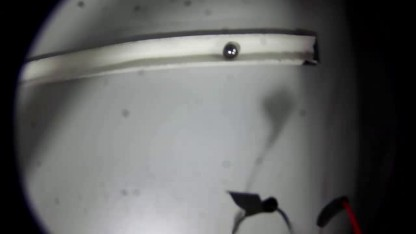gangzhu: (221, 40, 240, 60)
